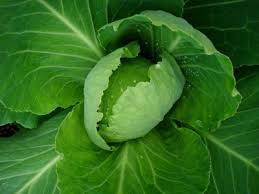cabbage: (81, 53, 184, 143)
